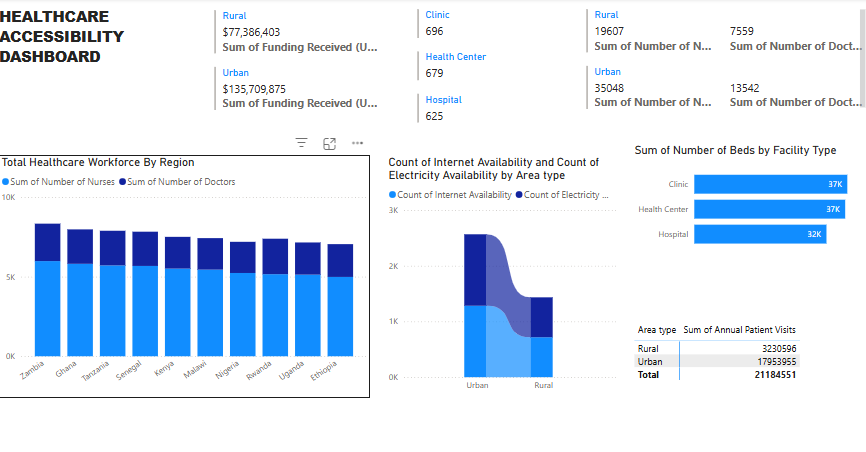

The dashboard page shown, as its layout file describes it:
{"tool":"powerbi","page":{"name":"Actionable Insights","canvas":[1280,720],"ordinal":1},"visuals":[{"type":"shape","title":"HEALTHCARE ACCESSIBILITY DASHBOARD","box":[1.5,11.8,242.4,119],"z":0},{"type":"multiRowCard","fields":{"Values":["Healthcare_Access_Africa (3).Facility Type","CountNonNull(Healthcare_Access_Africa (3).Facility Type)"]},"box":[611.3,11.8,218.9,201.3],"z":1000},{"type":"multiRowCard","fields":{"Values":["Healthcare_Access_Africa (3).Area type","Sum(Healthcare_Access_Africa (3).Funding Received (USD))"]},"box":[313,13.2,255.7,201.3],"z":2000},{"type":"multiRowCard","fields":{"Values":["Healthcare_Access_Africa (3).Area type","Sum(Healthcare_Access_Africa (3).Number of Nurses)","Sum(Healthcare_Access_Africa (3).Number of Doctors)"]},"box":[859.6,11.8,420.2,166],"z":3000},{"type":"columnChart","title":"Total Healthcare Workforce By Region","fields":{"Category":["Healthcare_Access_Africa (3).Country"],"Y":["Sum(Healthcare_Access_Africa (3).Number of Nurses)","Sum(Healthcare_Access_Africa (3).Number of Doctors)"]},"box":[0,230.7,546.6,357.1],"z":4000},{"type":"ribbonChart","fields":{"Category":["Healthcare_Access_Africa (3).Area type"],"Y":["CountNonNull(Healthcare_Access_Africa (3).Internet Availability)","CountNonNull(Healthcare_Access_Africa (3).Electricity Availability)"]},"box":[568.7,230.7,345.3,357.1],"z":5000},{"type":"clusteredBarChart","fields":{"Category":["Healthcare_Access_Africa (3).Facility Type"],"Y":["Sum(Healthcare_Access_Africa (3).Number of Beds)"]},"box":[930.1,213.1,349.7,169],"z":6000},{"type":"pivotTable","fields":{"Rows":["Healthcare_Access_Africa (3).Area type"],"Values":["Sum(Healthcare_Access_Africa (3).Annual Patient Visits)"]},"box":[930.1,471.7,289.5,179.3],"z":7000}]}

Visuals, with their boxes on the page's 1280x720 design canvas (x1, y1, x2, y2). These are canvas units, not pixel positions in the 866x452 screenshot, which may show the page scaled, cropped or inside an application window:
"HEALTHCARE ACCESSIBILITY DASHBOARD" shape: x1=2 y1=12 x2=244 y2=131
multiRowCard - Healthcare_Access_Africa (3).Facility Type x CountNonNull(Healthcare_Access_Africa (3).Facility Type): x1=611 y1=12 x2=830 y2=213
multiRowCard - Healthcare_Access_Africa (3).Area type x Sum(Healthcare_Access_Africa (3).Funding Received (USD)): x1=313 y1=13 x2=569 y2=214
multiRowCard - Healthcare_Access_Africa (3).Area type x Sum(Healthcare_Access_Africa (3).Number of Nurses): x1=860 y1=12 x2=1280 y2=178
"Total Healthcare Workforce By Region" columnChart: x1=0 y1=231 x2=547 y2=588
ribbonChart - Healthcare_Access_Africa (3).Area type x CountNonNull(Healthcare_Access_Africa (3).Internet Availability): x1=569 y1=231 x2=914 y2=588
clusteredBarChart - Healthcare_Access_Africa (3).Facility Type x Sum(Healthcare_Access_Africa (3).Number of Beds): x1=930 y1=213 x2=1280 y2=382
pivotTable - Healthcare_Access_Africa (3).Area type x Sum(Healthcare_Access_Africa (3).Annual Patient Visits): x1=930 y1=472 x2=1220 y2=651
